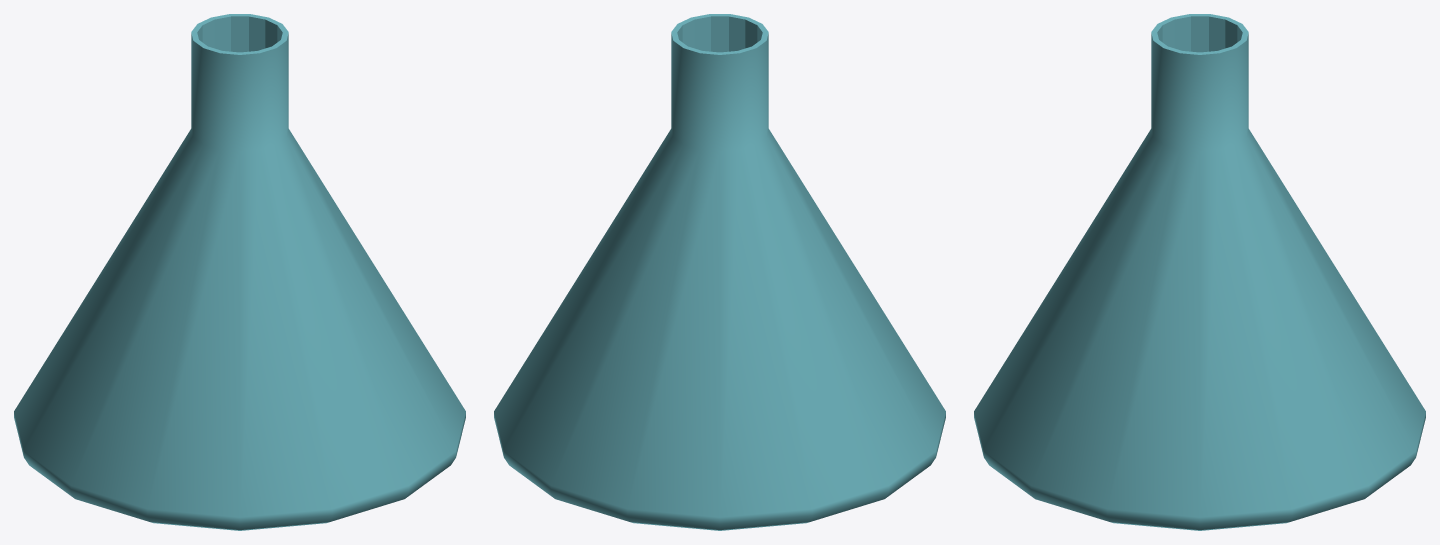
File: BoteFuria.fbx
The picture shows the model from 3 angles, left to right: view 1: azimuth 30°, elevation 25°; view 2: azimuth 150°, elevation 25°; view 3: azimuth 270°, elevation 25°; orthographic projection.
Visible parts, largest first — view 1: Cylinder001; view 2: Cylinder001; view 3: Cylinder001.
Boxes of the visible parts, box(x1,y1,x2,y2) form: Cylinder001: box(14, 14, 465, 530); Cylinder001: box(494, 14, 945, 530); Cylinder001: box(974, 14, 1425, 530).
Size of the model in its own units: 0.3046 by 0.3045 by 0.3063.
